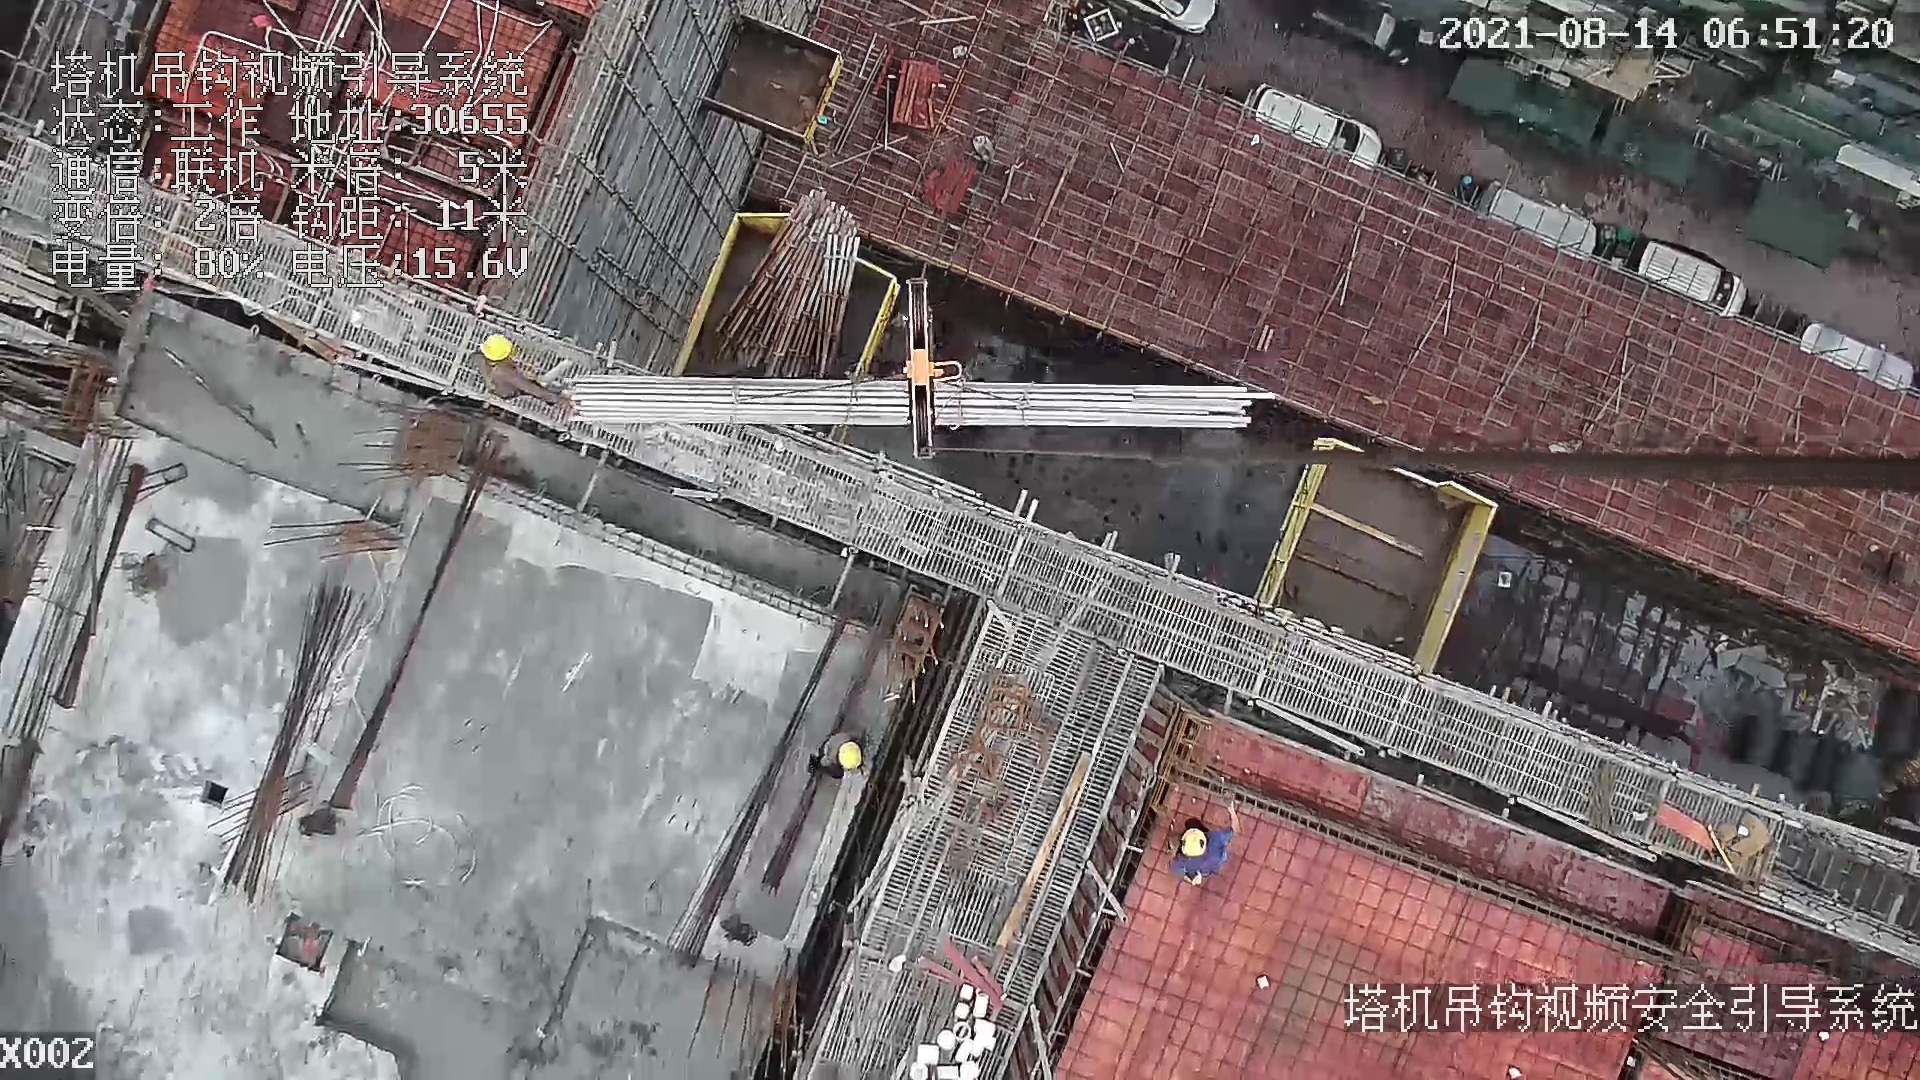helmet: (478, 334, 514, 363), (1178, 826, 1208, 858), (836, 740, 865, 770)
hook: (903, 264, 978, 469)
person: (467, 330, 579, 417), (1156, 780, 1244, 883), (805, 721, 874, 781)
rebar: (213, 581, 362, 900), (573, 376, 1274, 429)
scaffold: (717, 191, 856, 379)
